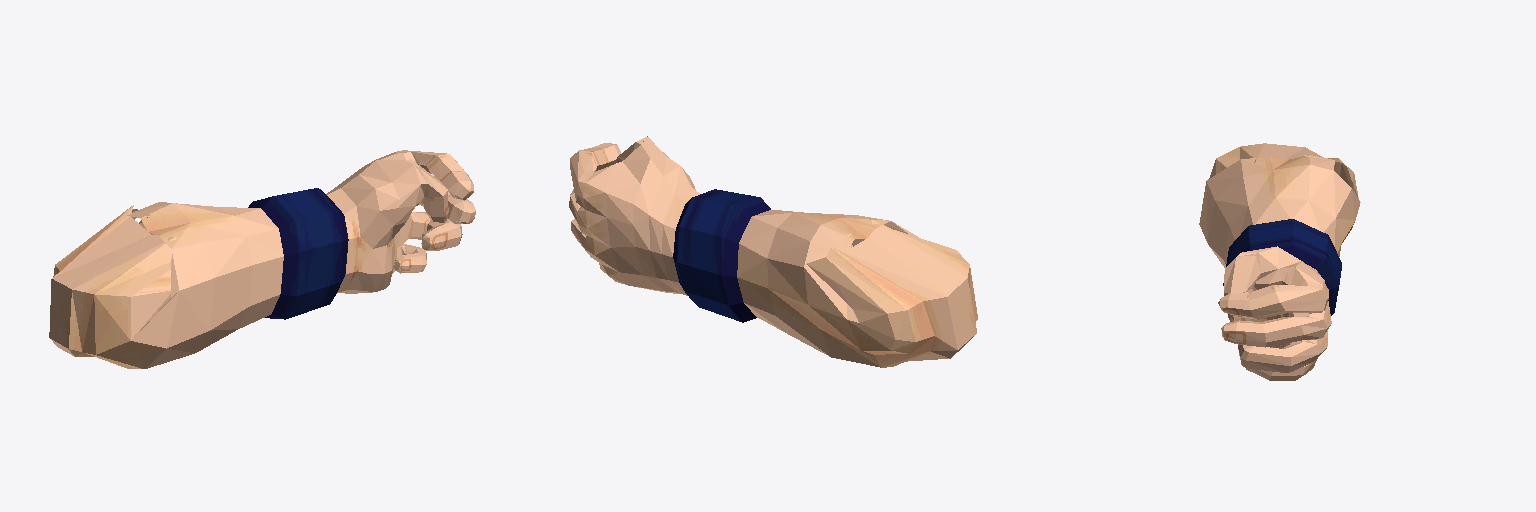
The picture shows the model from 3 angles: view 1: azimuth 30°, elevation 25°; view 2: azimuth 150°, elevation 25°; view 3: azimuth 270°, elevation 25°; orthographic projection.
Parts seen in each view (by area): view 1: Mesh.404_DrawCall_231.007; view 2: Mesh.404_DrawCall_231.007; view 3: Mesh.404_DrawCall_231.007.
Boxes of the visible parts, x1=… form: Mesh.404_DrawCall_231.007: x1=49, y1=150, x2=475, y2=368; Mesh.404_DrawCall_231.007: x1=569, y1=136, x2=977, y2=367; Mesh.404_DrawCall_231.007: x1=1199, y1=143, x2=1360, y2=380.
Size of the model in its own units: 9.86 by 3.4 by 3.47.
3 materials, 3 textured.